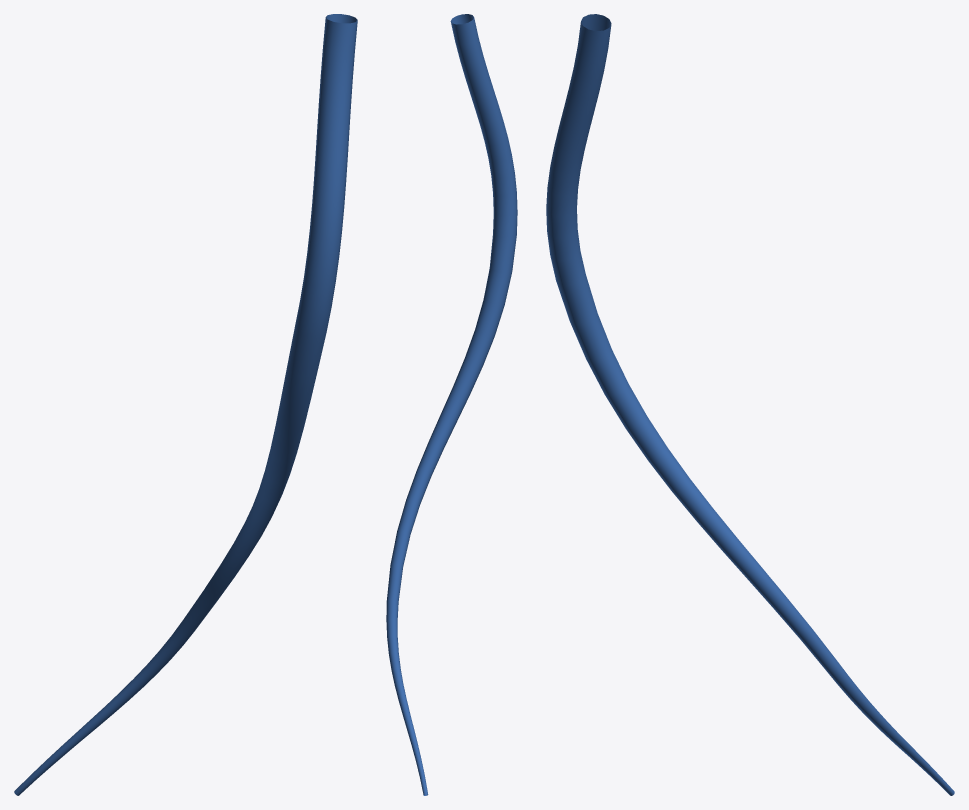
The picture shows the model from 3 angles, left to right: view 1: azimuth 30°, elevation 25°; view 2: azimuth 150°, elevation 25°; view 3: azimuth 270°, elevation 25°; orthographic projection. The views are drawn at different scales.
Parts seen in each view (by area): view 1: 右侧眼下静脉; view 2: 右侧眼下静脉; view 3: 右侧眼下静脉.
Part boxes in pixels (<box>): 右侧眼下静脉: <box>14,14,357,795</box>; 右侧眼下静脉: <box>386,14,517,795</box>; 右侧眼下静脉: <box>546,14,954,795</box>.
Size of the model in its own units: 0.00812 by 0.0444 by 0.0196.
